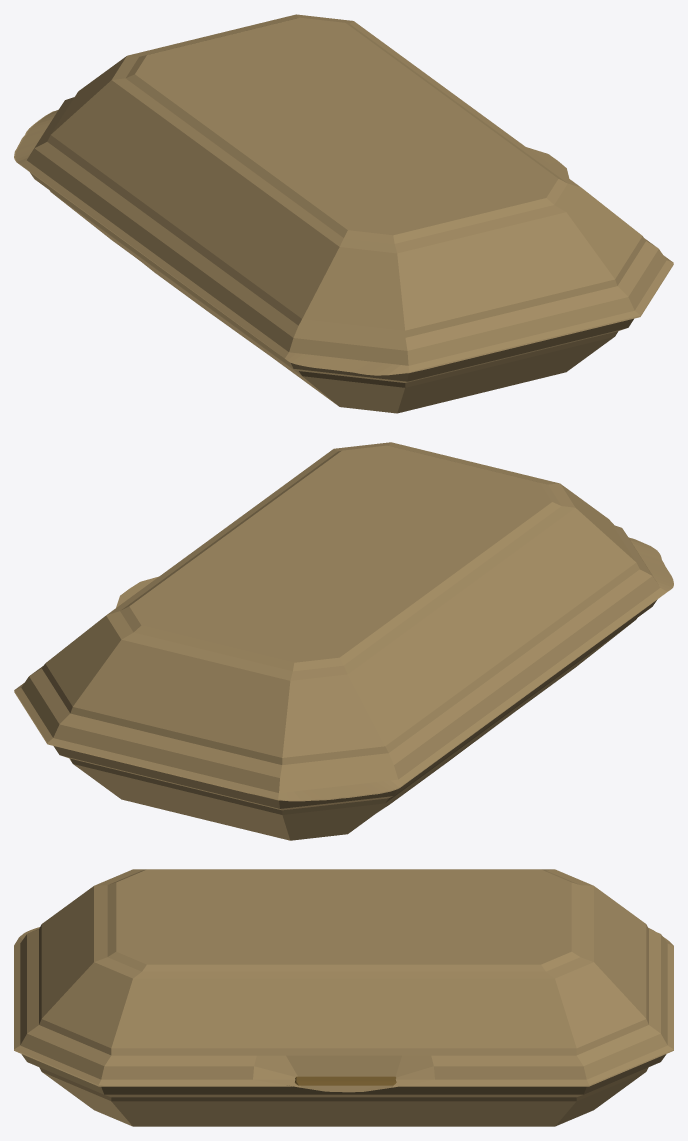
The model's file is Container.fbx.
The picture shows the model from 3 angles, top to bottom: view 1: azimuth 30°, elevation 25°; view 2: azimuth 150°, elevation 25°; view 3: azimuth 270°, elevation 25°; orthographic projection. The views are drawn at different scales.
Parts seen in each view (by area): view 1: QuickShape; view 2: QuickShape; view 3: QuickShape.
Part boxes in pixels (box(x1,y1,x2,y2)): QuickShape: box(14, 14, 673, 413); QuickShape: box(14, 442, 673, 840); QuickShape: box(14, 869, 673, 1126).
Bounding box in the file's own units: 116 × 47.81 × 177.
